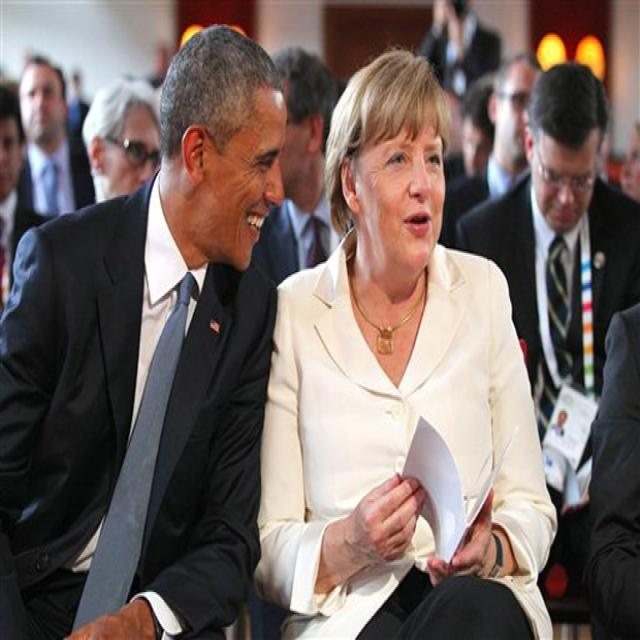body: (251, 37, 564, 638), (0, 13, 292, 638), (449, 59, 640, 605), (584, 123, 640, 640), (250, 41, 355, 286), (437, 49, 548, 252), (421, 0, 508, 179), (16, 51, 97, 218), (80, 74, 162, 202), (1, 86, 42, 320), (64, 66, 92, 131), (148, 30, 169, 93)
